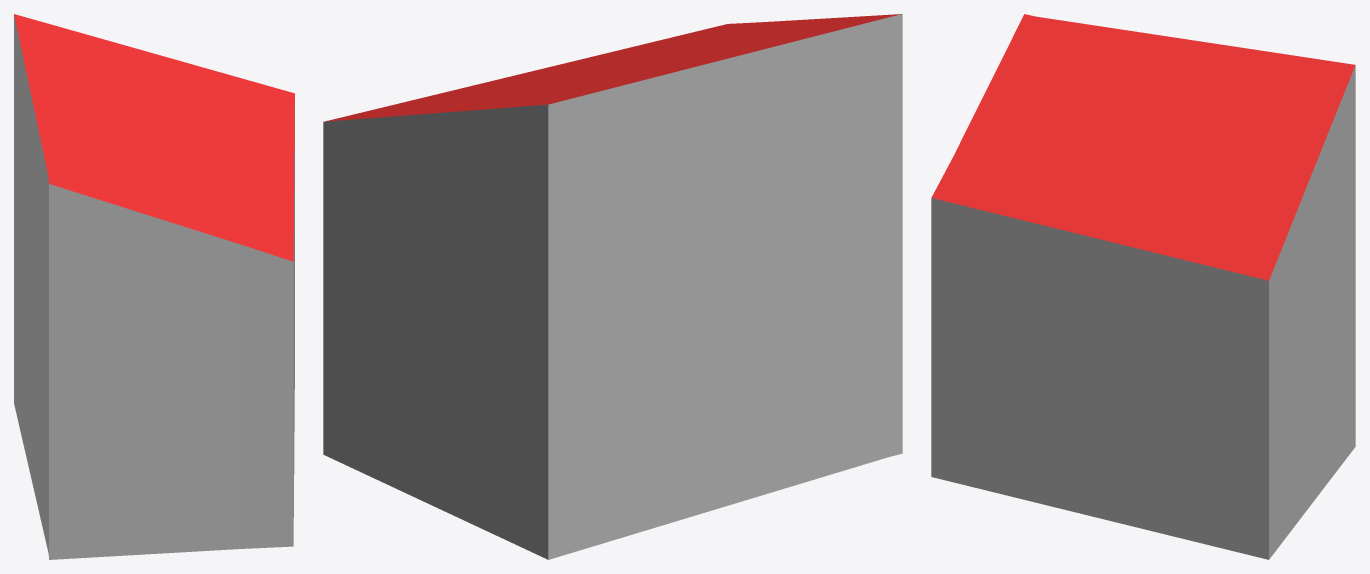
File: DEBY_LOD2_4908168.dae
The picture shows the model from 3 angles, left to right: view 1: azimuth 30°, elevation 25°; view 2: azimuth 150°, elevation 25°; view 3: azimuth 270°, elevation 25°; orthographic projection. The views are drawn at different scales.
Bounding box in the file's own units: 7.22 × 7.3 × 7.25.
